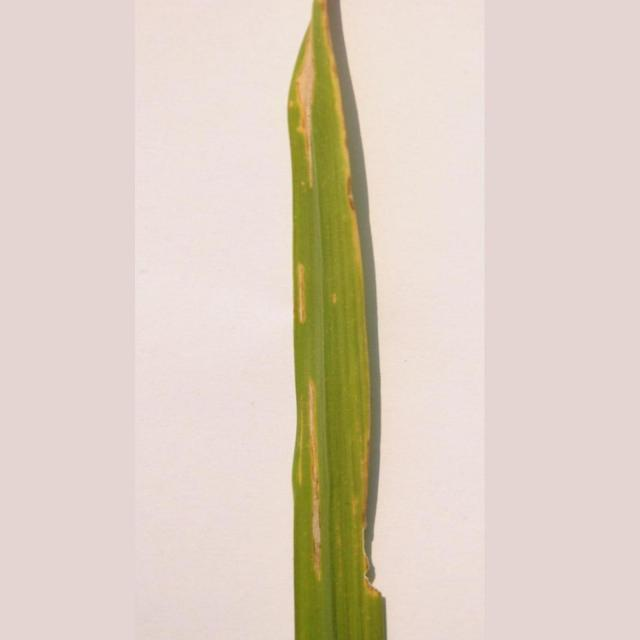leaf blight: (285, 1, 396, 605)
